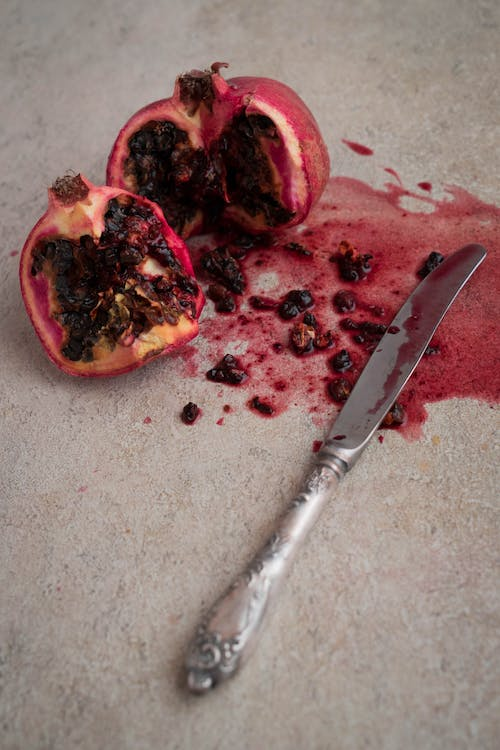knife: (179, 236, 488, 694)
